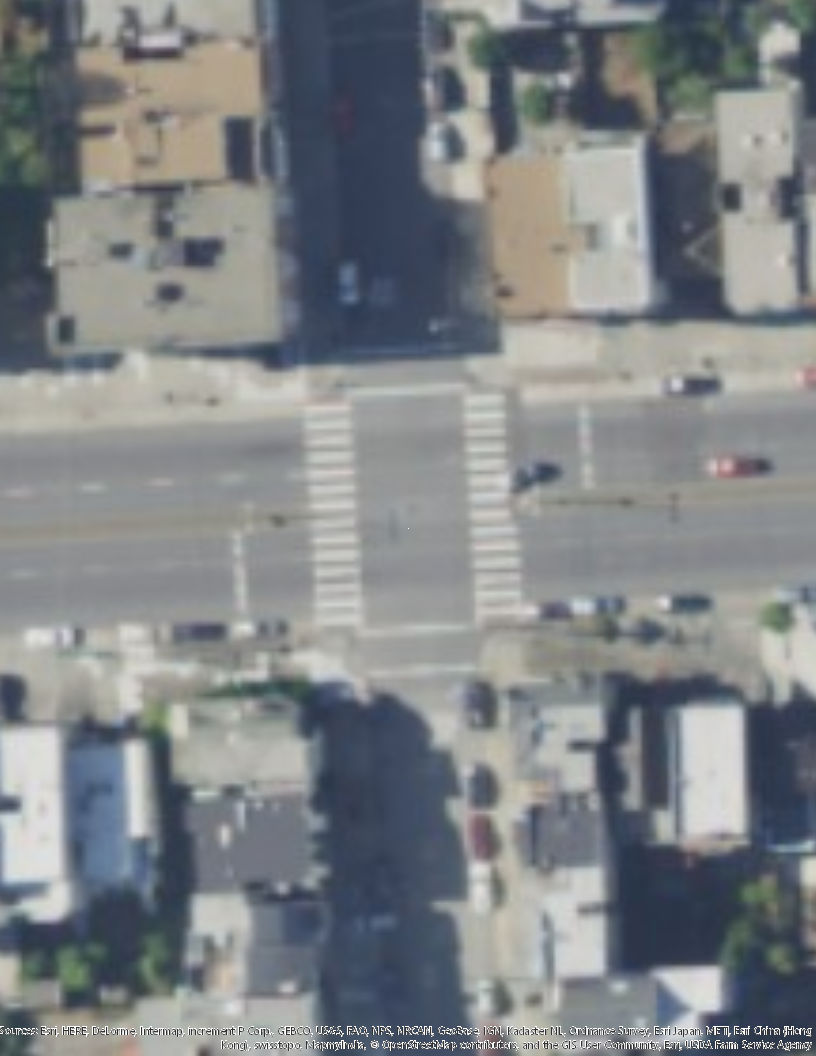zebracross: (460, 393, 527, 624), (297, 405, 363, 626)
